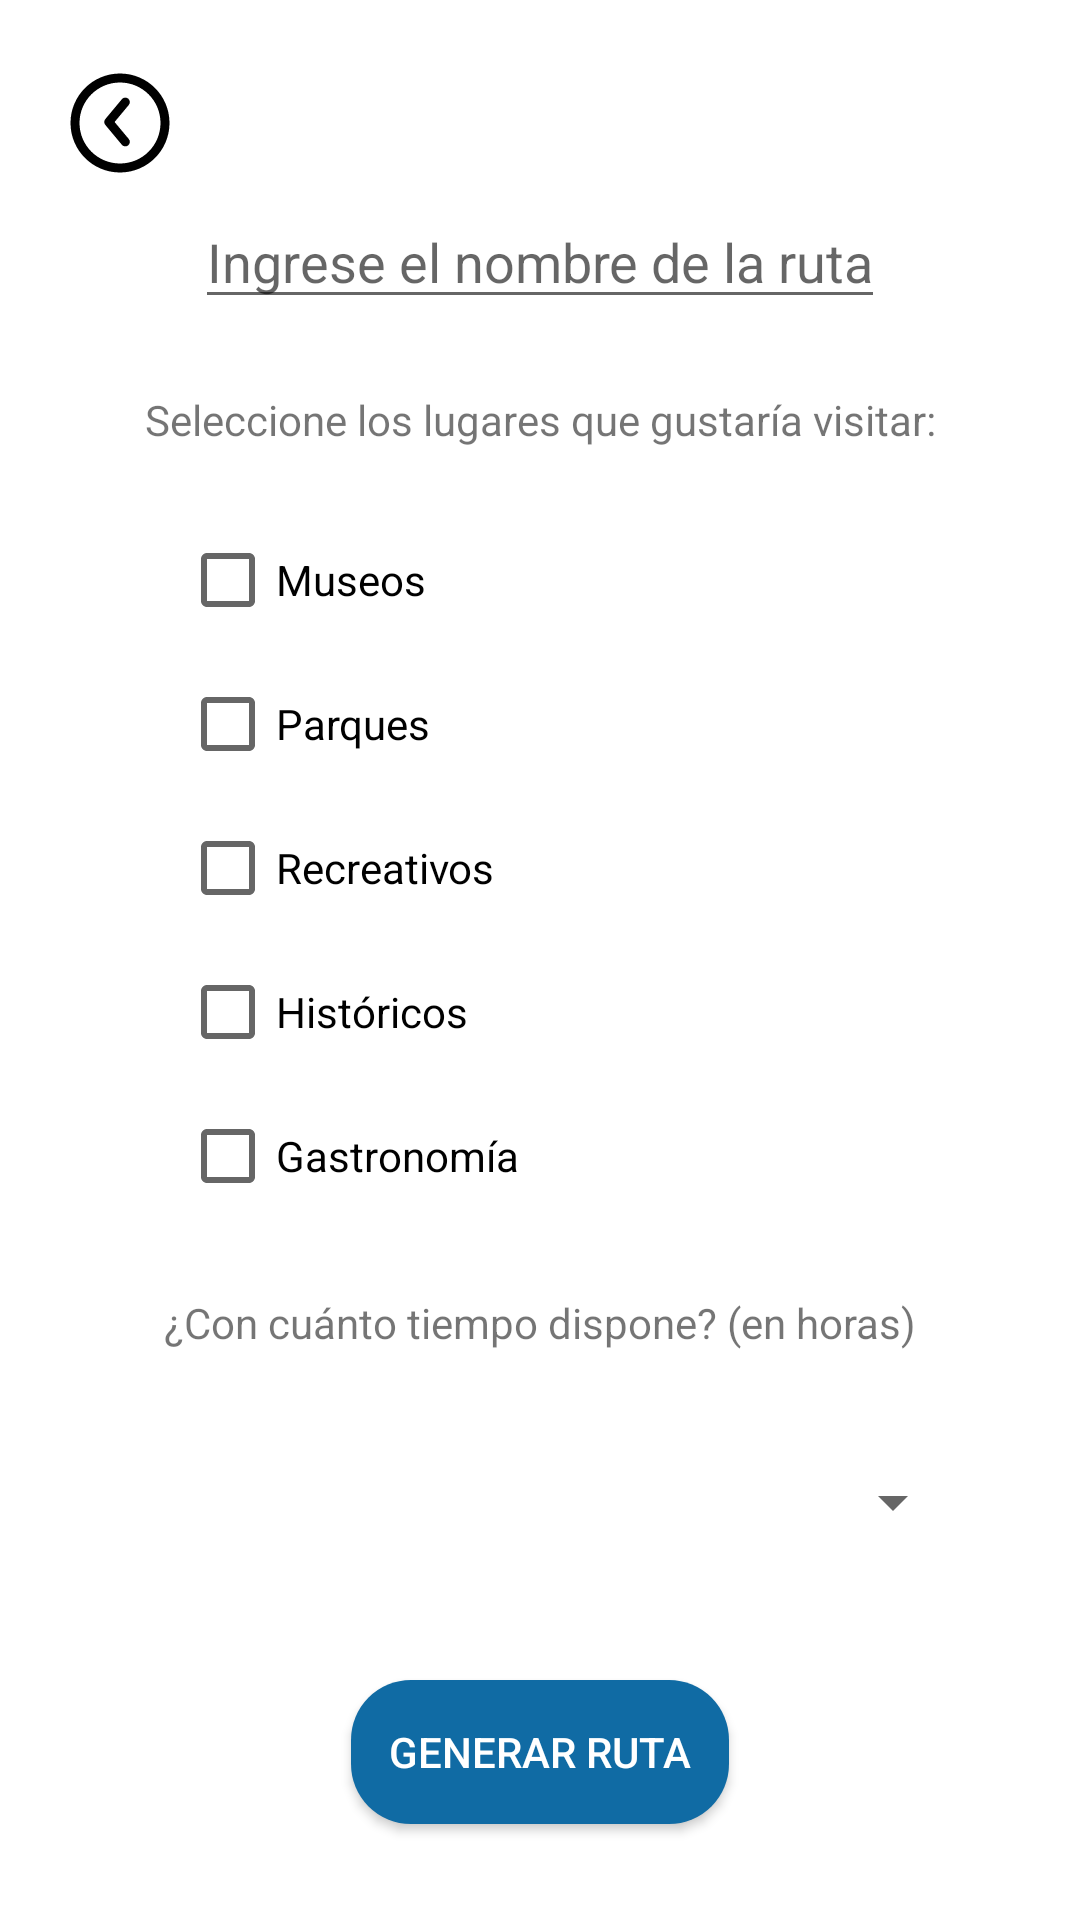

Icons on this 1080 x 1920 Android screen, each with the point to tap as [x,y]:
back: [120,123]
